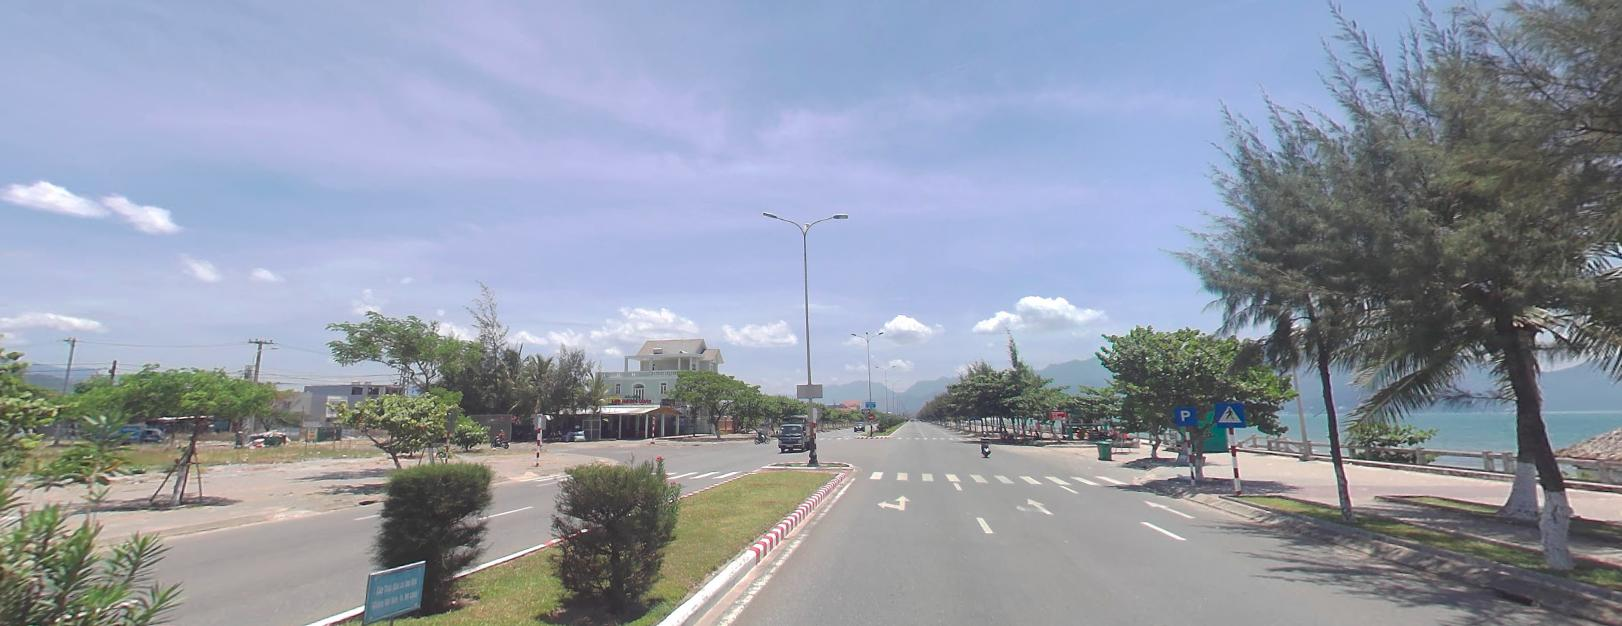Cam nguoc chieu: (868, 413, 874, 418)
